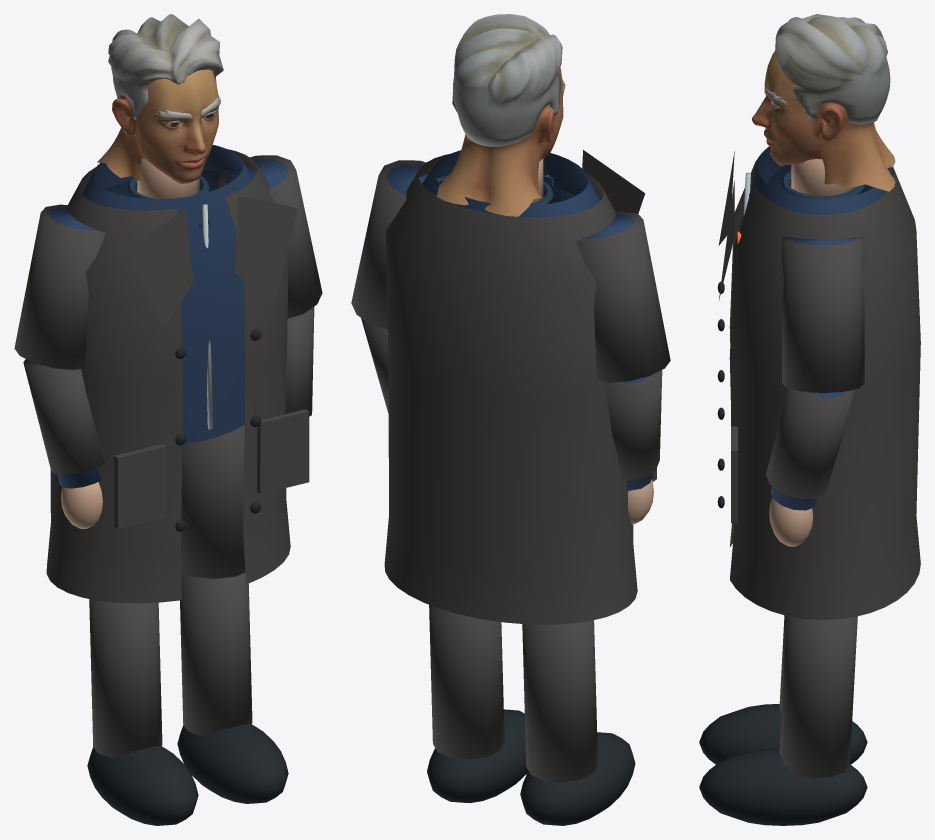
File: hyunsu.glb
3 views of the same model, side by side, from view 1: azimuth 30°, elevation 25°; view 2: azimuth 150°, elevation 25°; view 3: azimuth 270°, elevation 25° (orthographic). The views are drawn at different scales.
Parts seen in each view (by area): view 1: Coat_TOMBOY charcoal wool_Master, Leg1_TOMBOY charcoal wool_Master, Knit_Polo navy knit_Master, Sleeve-1_TOMBOY charcoal wool_Master, Leg-1_TOMBOY charcoal wool_Master, Face_SuperHero_Male_Master, Face_Hair_SimpleParted_Master, Sleeve1_TOMBOY charcoal wool_Master, Leg-1_Ink_Master, Leg1_Ink_Master, Arm-1_Warm skin_Master, Neck_Warm skin_Master (+5 smaller); view 2: Coat_TOMBOY charcoal wool_Master, Sleeve-1_TOMBOY charcoal wool_Master, Face_Hair_SimpleParted_Master, Leg-1_TOMBOY charcoal wool_Master, Leg1_TOMBOY charcoal wool_Master, Face_SuperHero_Male_Master, Leg-1_Ink_Master, Sleeve1_TOMBOY charcoal wool_Master, Leg1_Ink_Master, Knit_Polo navy knit_Master, Arm-1_Polo navy knit_Master, Arm-1_Warm skin_Master (+1 smaller); view 3: Coat_TOMBOY charcoal wool_Master, Sleeve1_TOMBOY charcoal wool_Master, Leg1_TOMBOY charcoal wool_Master, Face_Hair_SimpleParted_Master, Face_SuperHero_Male_Master, Leg1_Ink_Master, Leg-1_Ink_Master, Knit_Polo navy knit_Master, Arm1_Warm skin_Master, Neck_Warm skin_Master, Arm1_Polo navy knit_Master, Collar_Master (+1 smaller).
Boxes of the visible parts, bbox=[...] form: Coat_TOMBOY charcoal wool_Master: bbox=[46, 149, 309, 603]; Leg1_TOMBOY charcoal wool_Master: bbox=[180, 425, 252, 735]; Knit_Polo navy knit_Master: bbox=[82, 145, 253, 442]; Sleeve-1_TOMBOY charcoal wool_Master: bbox=[14, 204, 105, 474]; Leg-1_TOMBOY charcoal wool_Master: bbox=[89, 599, 162, 757]; Face_SuperHero_Male_Master: bbox=[97, 69, 219, 183]; Face_Hair_SimpleParted_Master: bbox=[108, 14, 223, 119]; Sleeve1_TOMBOY charcoal wool_Master: bbox=[217, 155, 322, 416]; Leg-1_Ink_Master: bbox=[87, 745, 198, 825]; Leg1_Ink_Master: bbox=[177, 723, 288, 803]; Arm-1_Warm skin_Master: bbox=[61, 482, 102, 528]; Neck_Warm skin_Master: bbox=[137, 158, 199, 199]; Coat_TOMBOY charcoal wool_Master: bbox=[384, 150, 656, 624]; Sleeve-1_TOMBOY charcoal wool_Master: bbox=[576, 211, 670, 481]; Face_Hair_SimpleParted_Master: bbox=[452, 14, 562, 146]; Leg-1_TOMBOY charcoal wool_Master: bbox=[522, 620, 597, 782]; Leg1_TOMBOY charcoal wool_Master: bbox=[429, 604, 504, 759]; Face_SuperHero_Male_Master: bbox=[436, 68, 563, 216]; Leg-1_Ink_Master: bbox=[520, 732, 635, 825]; Sleeve1_TOMBOY charcoal wool_Master: bbox=[351, 160, 447, 413]; Leg1_Ink_Master: bbox=[427, 709, 528, 803]; Knit_Polo navy knit_Master: bbox=[422, 150, 600, 217]; Arm-1_Polo navy knit_Master: bbox=[583, 214, 653, 490]; Arm-1_Warm skin_Master: bbox=[628, 479, 653, 524]; Coat_TOMBOY charcoal wool_Master: bbox=[718, 151, 920, 619]; Sleeve1_TOMBOY charcoal wool_Master: bbox=[766, 236, 864, 499]; Leg1_TOMBOY charcoal wool_Master: bbox=[779, 616, 857, 778]; Face_Hair_SimpleParted_Master: bbox=[774, 14, 890, 124]; Face_SuperHero_Male_Master: bbox=[752, 51, 895, 191]; Leg1_Ink_Master: bbox=[699, 749, 867, 825]; Leg-1_Ink_Master: bbox=[699, 704, 867, 764]; Knit_Polo navy knit_Master: bbox=[739, 146, 893, 229]; Arm1_Warm skin_Master: bbox=[769, 497, 813, 546]; Neck_Warm skin_Master: bbox=[791, 158, 855, 195]; Arm1_Polo navy knit_Master: bbox=[770, 237, 855, 510]; Collar_Master: bbox=[781, 171, 864, 199].
Size of the model in its own units: 0.792 by 1.95 by 0.5.
Materials: 12 (4 with a texture image).
